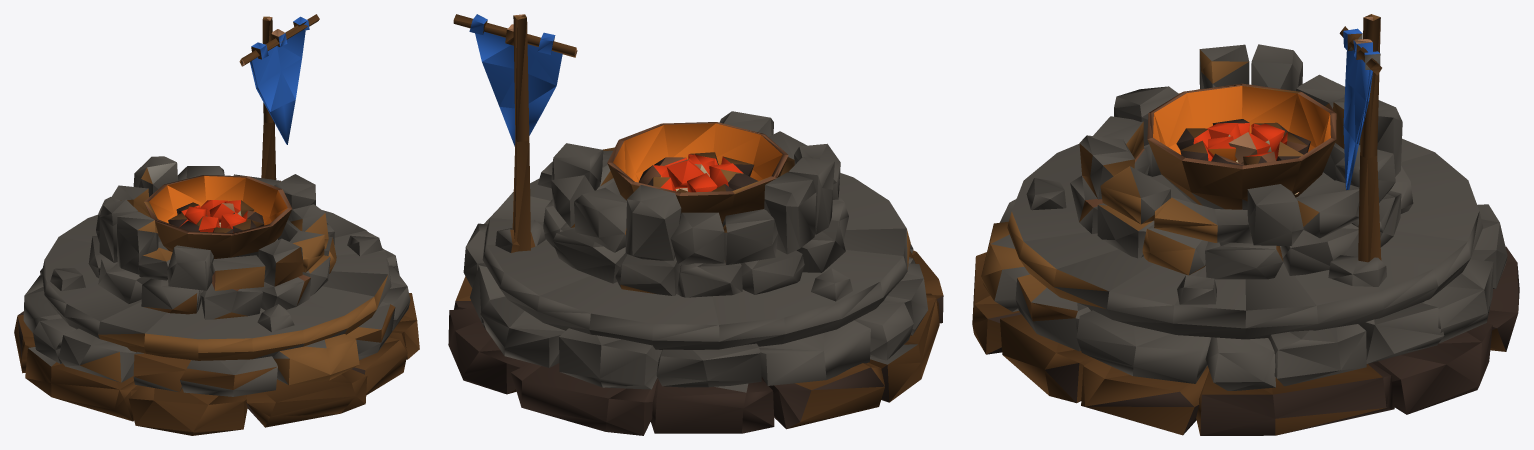
The model's file is building.hearth.glb.
3 views of the same model, side by side, from view 1: azimuth 30°, elevation 25°; view 2: azimuth 150°, elevation 25°; view 3: azimuth 270°, elevation 25° (orthographic). The views are drawn at different scales.
Parts seen in each view (by area): view 1: asset; view 2: asset; view 3: asset.
Boxes of the visible parts, bbox=[...] form: asset: bbox=[14, 14, 419, 435]; asset: bbox=[448, 14, 943, 435]; asset: bbox=[972, 14, 1519, 435].
Size of the model in its own units: 1.9 by 1.41 by 1.9.
